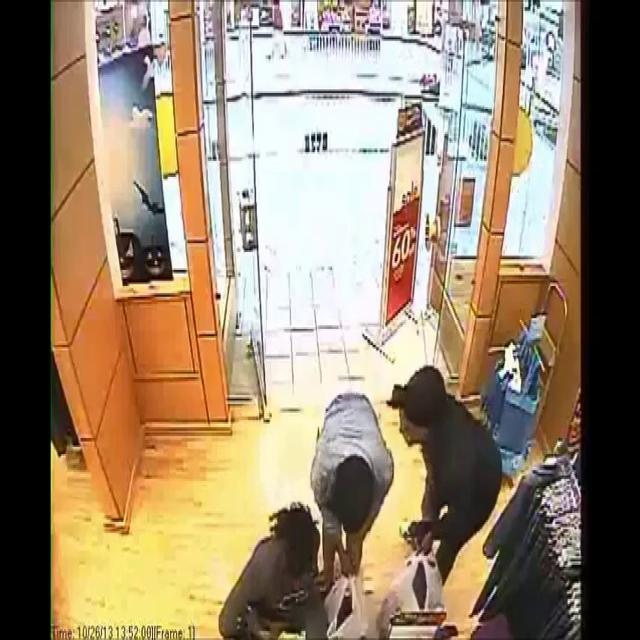normal: (227, 476, 333, 640)
shoplifting: (392, 393, 504, 615), (295, 388, 393, 540)
